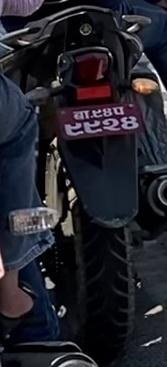license-plate: (54, 100, 141, 140)
